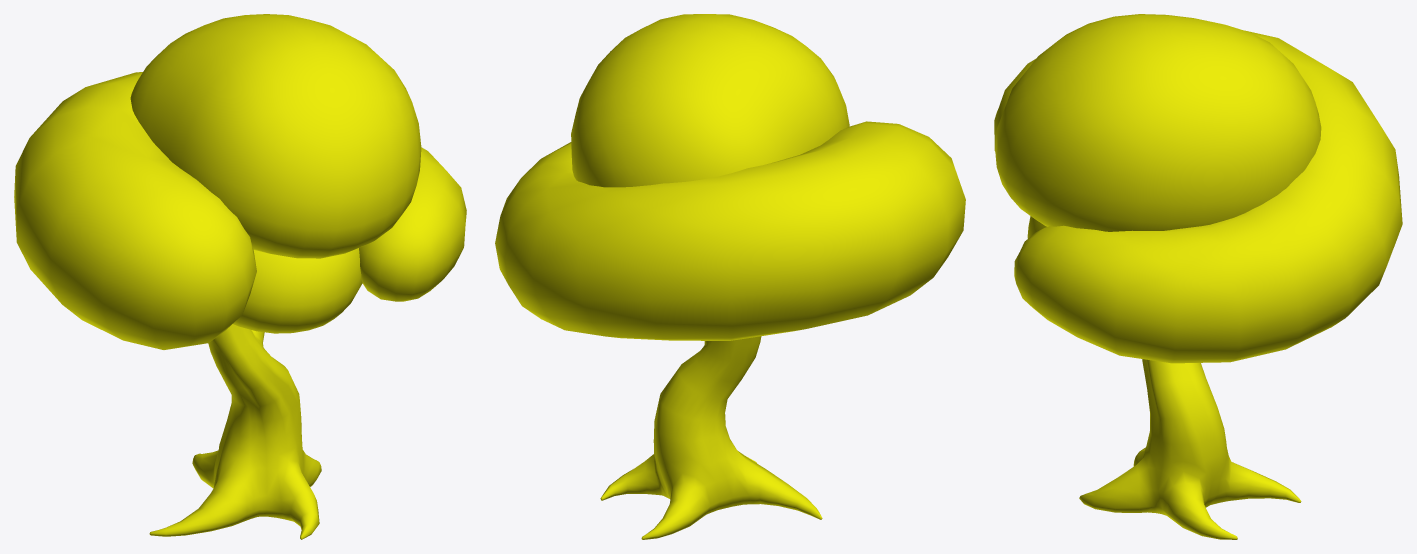
3 renders of one model, left to right at view 1: azimuth 30°, elevation 25°; view 2: azimuth 150°, elevation 25°; view 3: azimuth 270°, elevation 25°, orthographic. The views are drawn at different scales.
Visible parts, largest first — view 1: Tree; view 2: Tree; view 3: Tree.
Part boxes in pixels (box(x1,y1,x2,y2)): Tree: box(14, 14, 466, 539); Tree: box(495, 14, 965, 539); Tree: box(994, 14, 1402, 539).
Bounding box in the file's own units: 0.1603 × 0.1762 × 0.1355.
Materials: 1 (1 with a texture image).
